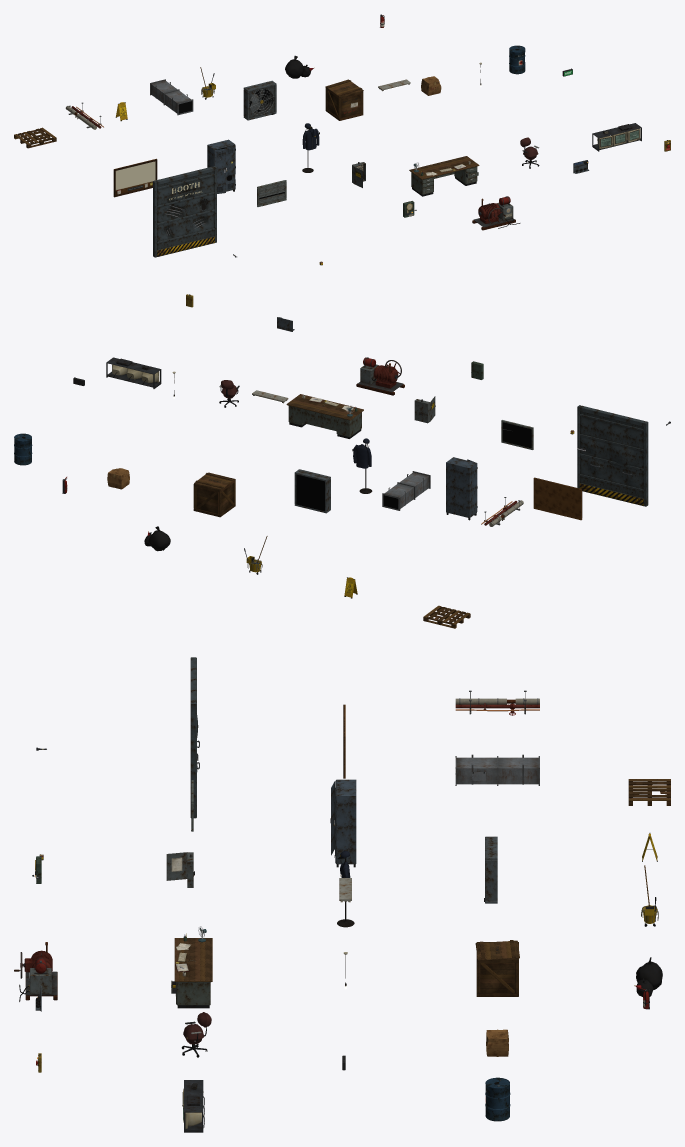
Rendered from props_a.glb.
3 renders of one model, top to bottom at view 1: azimuth 30°, elevation 25°; view 2: azimuth 150°, elevation 25°; view 3: azimuth 270°, elevation 25°, orthographic. The views are drawn at different scales.
Parts seen in each view (by area): view 1: booth_door, desk, crate, locker, wall_fan, generator, duct_run, monitor_bank, map_face, vent_cover, wall_map, pallet (+3 smaller); view 2: booth_door, desk, locker, wall_map, crate, wall_fan, generator, duct_run, monitor_bank, vent_cover, pallet, barrel (+1 smaller); view 3: desk, crate, duct_run, locker, generator, pipe_run, booth_door, monitor_bank, barrel, pallet, wall_fan, fuse_box (+2 smaller).
Boxes of the visible parts, left/top/right/bottom form: booth_door: left=153, top=166, right=216, bottom=257; desk: left=409, top=156, right=479, bottom=196; crate: left=325, top=79, right=363, bottom=120; locker: left=207, top=139, right=235, bottom=193; wall_fan: left=243, top=80, right=276, bottom=120; generator: left=472, top=196, right=520, bottom=230; duct_run: left=150, top=79, right=193, bottom=115; monitor_bank: left=592, top=123, right=641, bottom=151; map_face: left=116, top=161, right=155, bottom=189; vent_cover: left=257, top=180, right=286, bottom=206; wall_map: left=113, top=158, right=157, bottom=197; pallet: left=14, top=127, right=56, bottom=148; booth_door: left=577, top=405, right=648, bottom=506; desk: left=286, top=394, right=363, bottom=438; locker: left=446, top=457, right=477, bottom=520; wall_map: left=533, top=477, right=582, bottom=520; crate: left=193, top=472, right=235, bottom=517; wall_fan: left=294, top=469, right=330, bottom=513; generator: left=356, top=357, right=404, bottom=395; duct_run: left=382, top=471, right=430, bottom=510; monitor_bank: left=106, top=357, right=161, bottom=388; vent_cover: left=501, top=420, right=533, bottom=449; pallet: left=423, top=605, right=470, bottom=628; barrel: left=14, top=433, right=32, bottom=465; desk: left=171, top=926, right=212, bottom=1008; crate: left=475, top=940, right=519, bottom=996; duct_run: left=455, top=754, right=539, bottom=785; locker: left=330, top=779, right=356, bottom=867; generator: left=19, top=942, right=57, bottom=1001; pipe_run: left=455, top=690, right=539, bottom=715; booth_door: left=190, top=657, right=199, bottom=818; monitor_bank: left=182, top=1080, right=204, bottom=1132; barrel: left=485, top=1077, right=510, bottom=1121; pallet: left=628, top=779, right=670, bottom=805; wall_fan: left=484, top=836, right=497, bottom=903; fuse_box: left=166, top=852, right=194, bottom=887.
Size of the model in its own units: 20.2 by 3 by 15.56.
20 materials, 14 textured.
